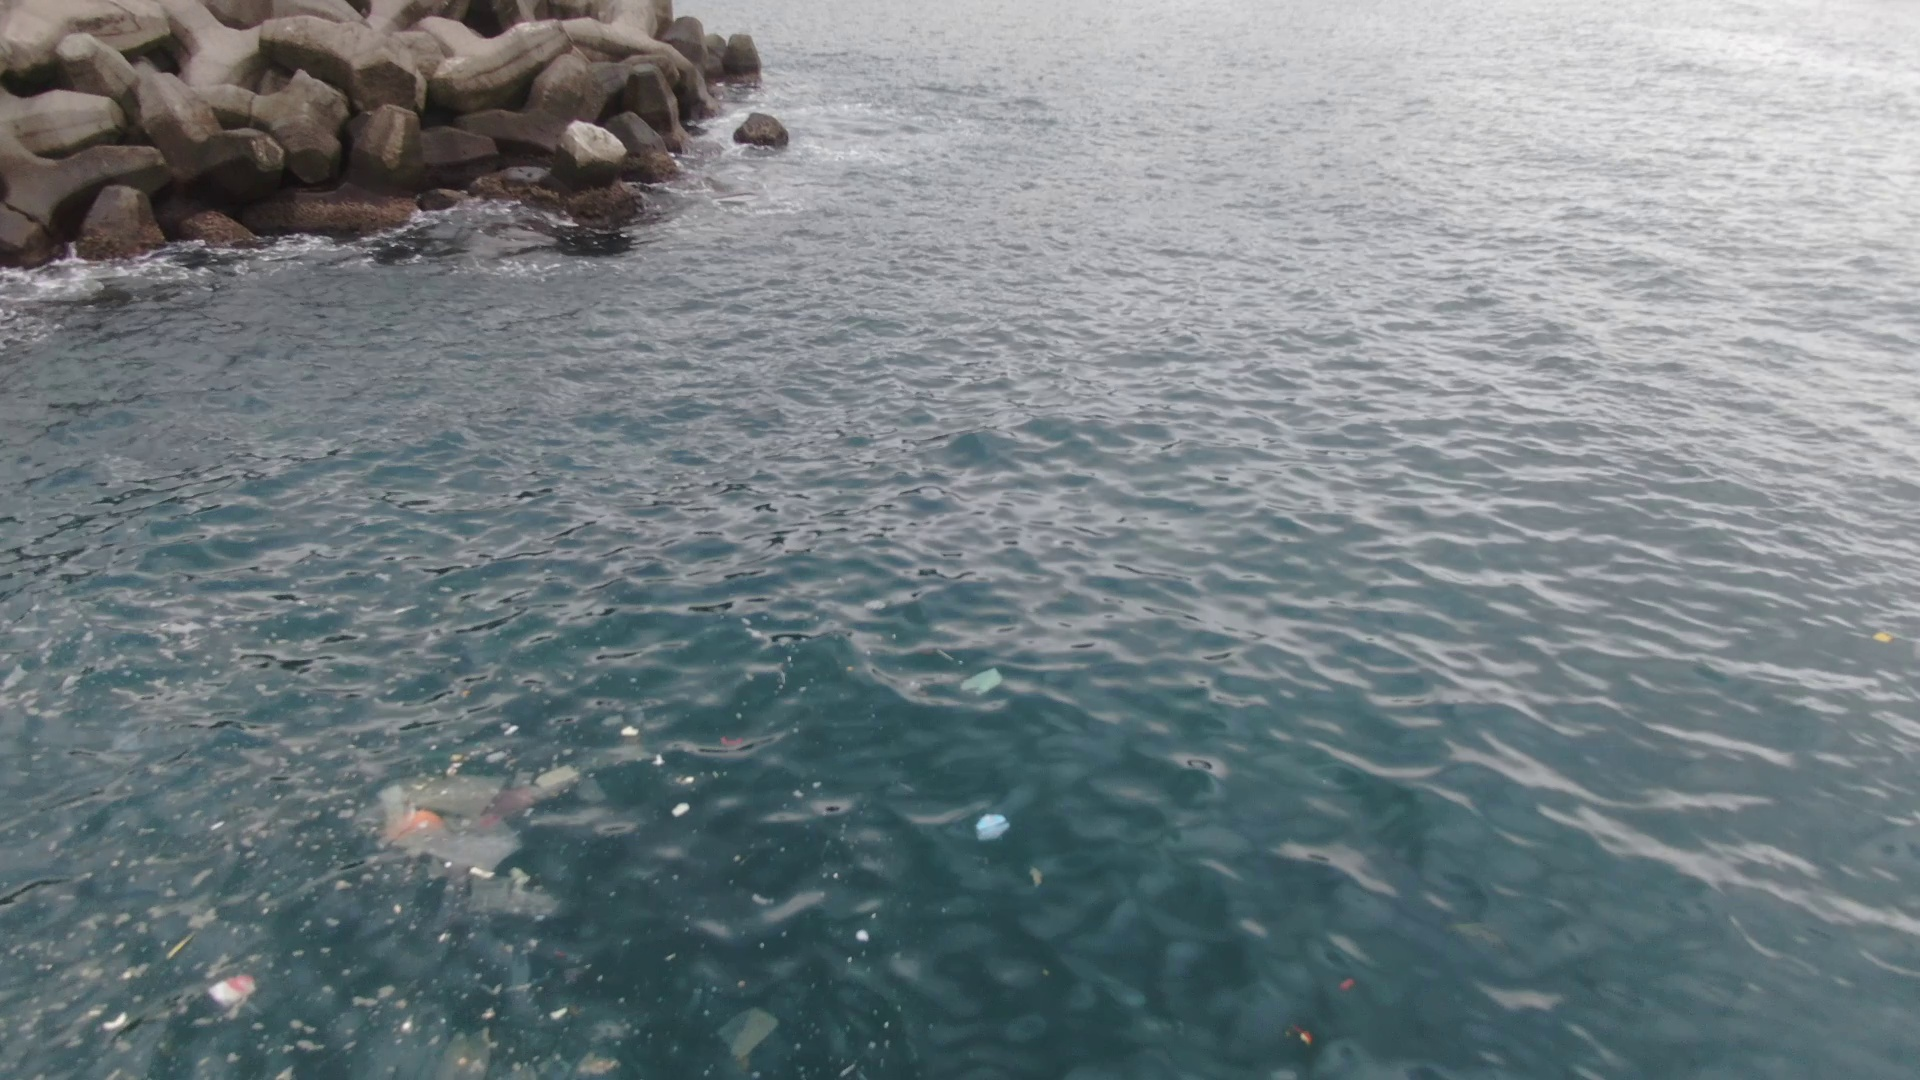garbage: (189, 709, 795, 1080), (975, 806, 1021, 852), (963, 661, 1011, 704)
